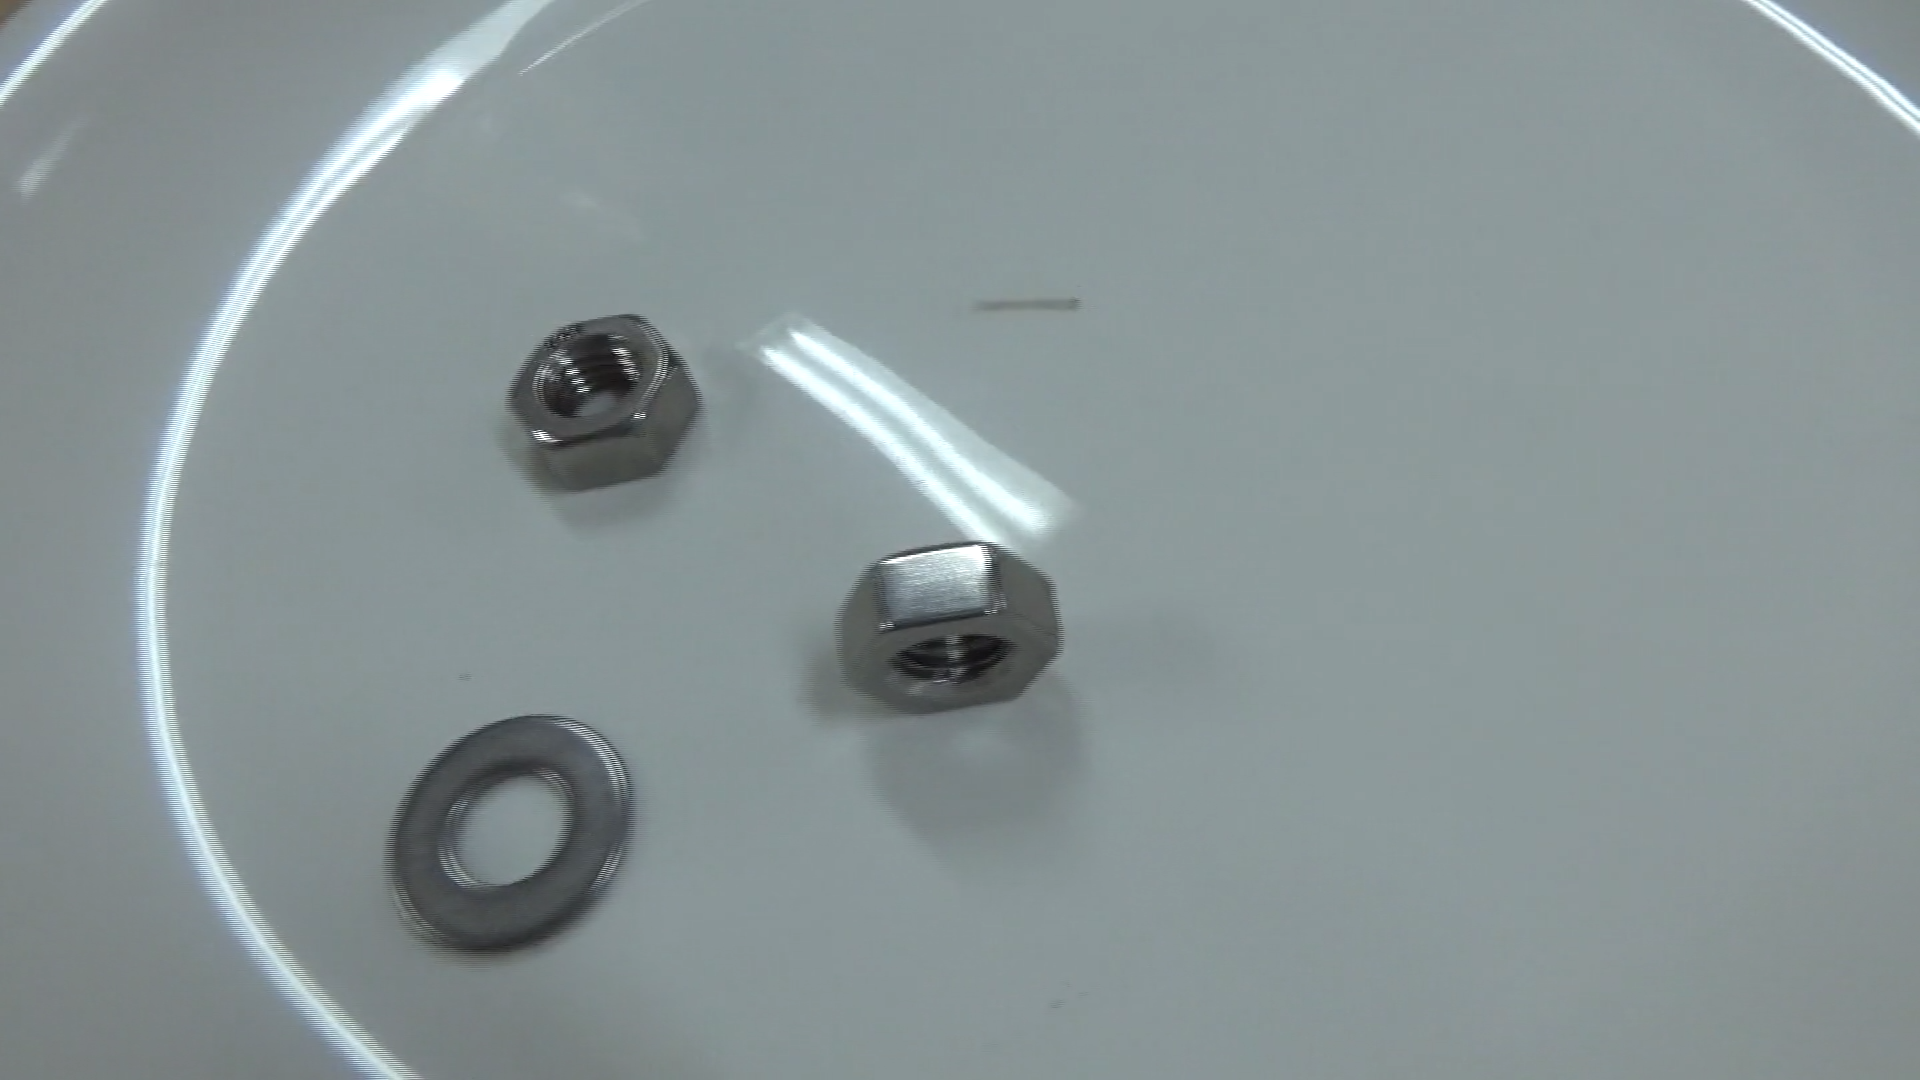nut: (807, 531, 1083, 717), (495, 298, 712, 500)
washer: (368, 698, 642, 964)
